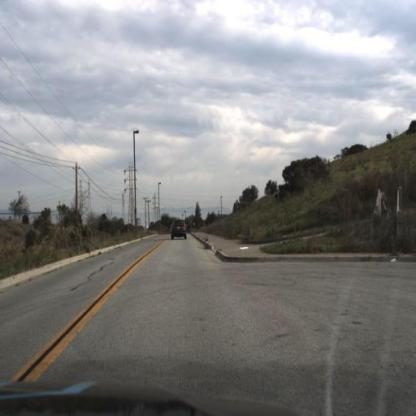car: (171, 218, 189, 245)
